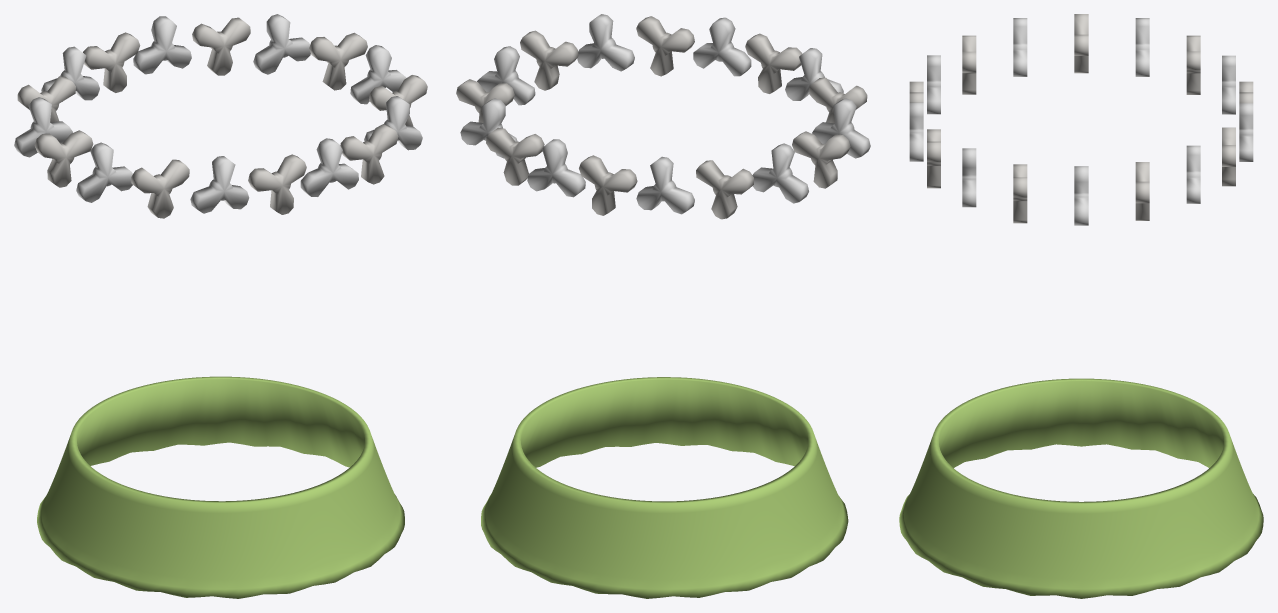
The model's file is island_rakko.glb.
3 renders of one model, left to right at view 1: azimuth 30°, elevation 25°; view 2: azimuth 150°, elevation 25°; view 3: azimuth 270°, elevation 25°, orthographic.
Parts seen in each view (by area): view 1: island_rakko; view 2: island_rakko; view 3: island_rakko.
Boxes of the visible parts, box(x1,y1,x2,y2) form: island_rakko: box(14, 14, 427, 598); island_rakko: box(456, 14, 870, 598); island_rakko: box(899, 14, 1263, 598).
Bounding box in the file's own units: 0.778 × 0.8815 × 0.6757.
